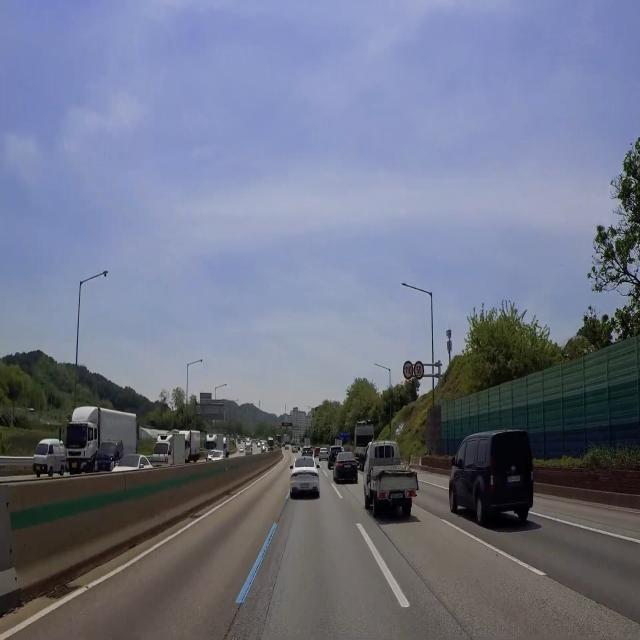car: (505, 473, 522, 487), (389, 491, 404, 501), (299, 483, 310, 493), (342, 464, 355, 471)
